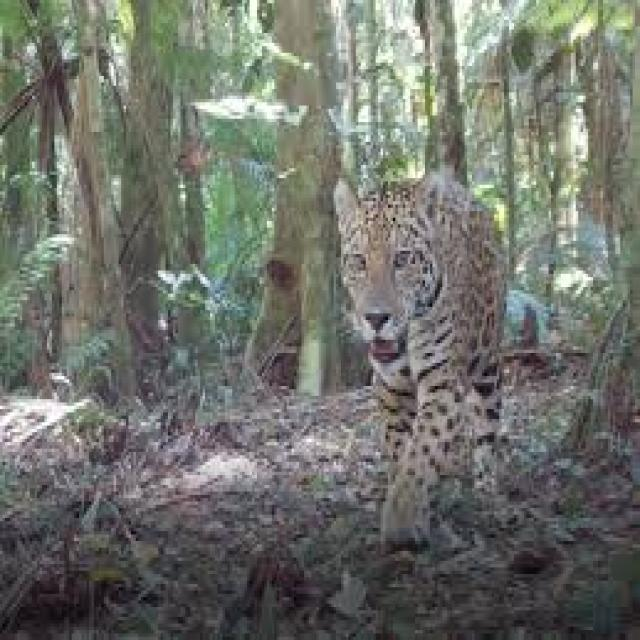Jaguar: (331, 158, 512, 534)
